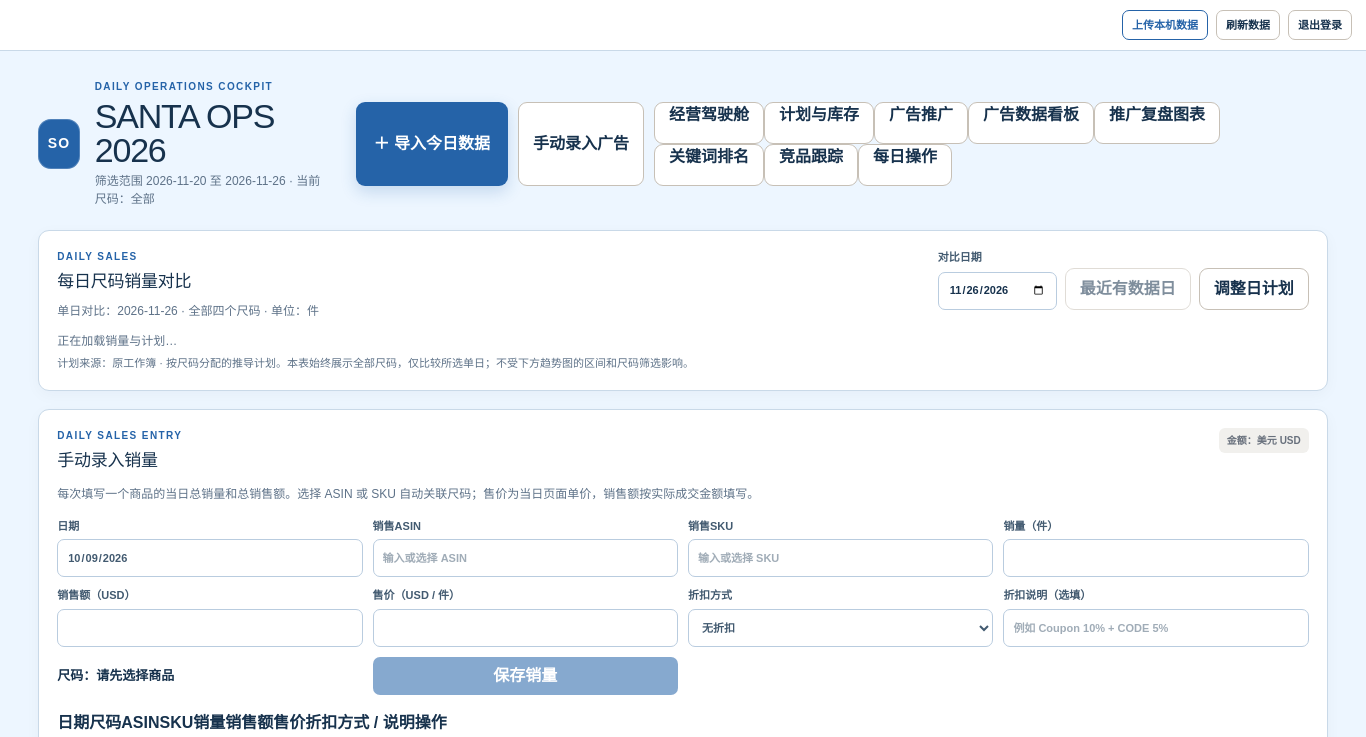
Test: keeps the dashboard as the default view and returns to its unchanged four-chart cockpit after plan navigation
Click the button "计划与库存" at (819, 122), box [764,102,874,144]
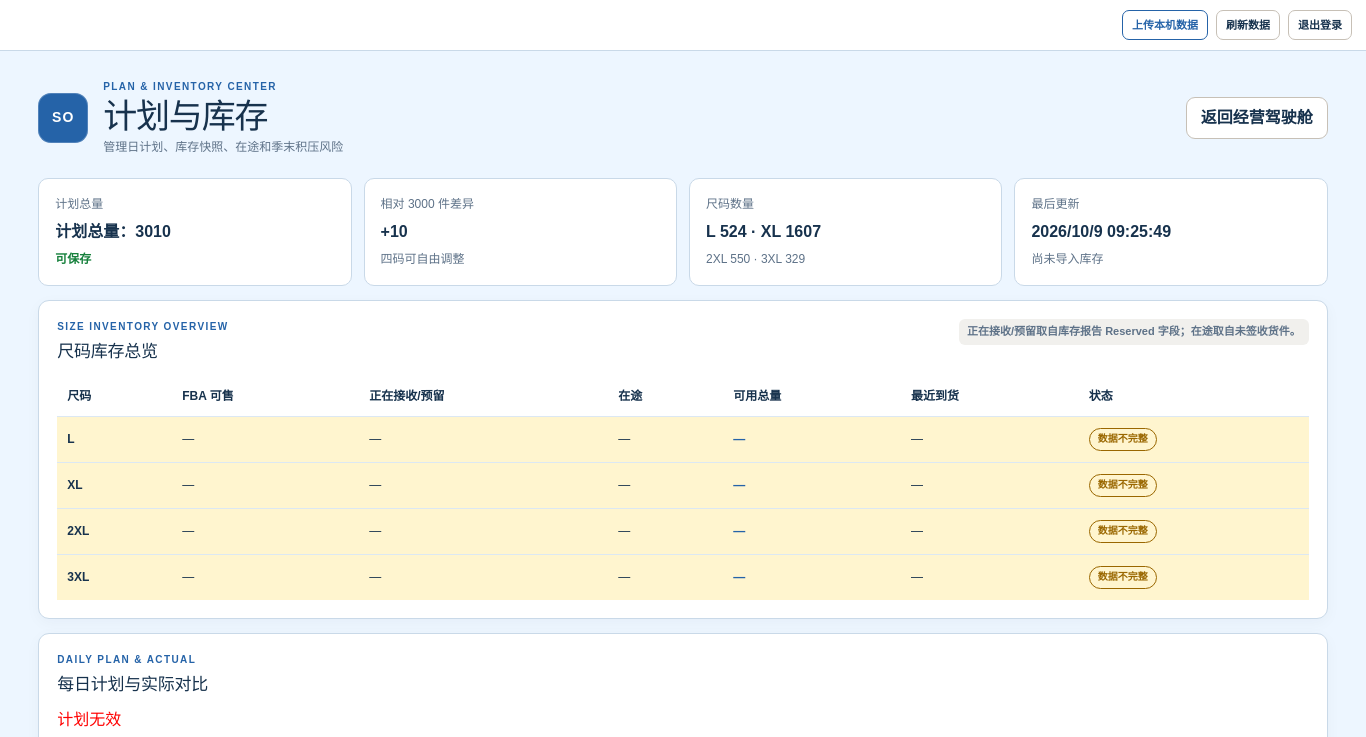
Check: the heading "计划与库存" is shown, box [103,97,267,135]
Click the button "返回经营驾驶舱" at (1257, 118), box [1186,96,1328,138]
(page scrolled)
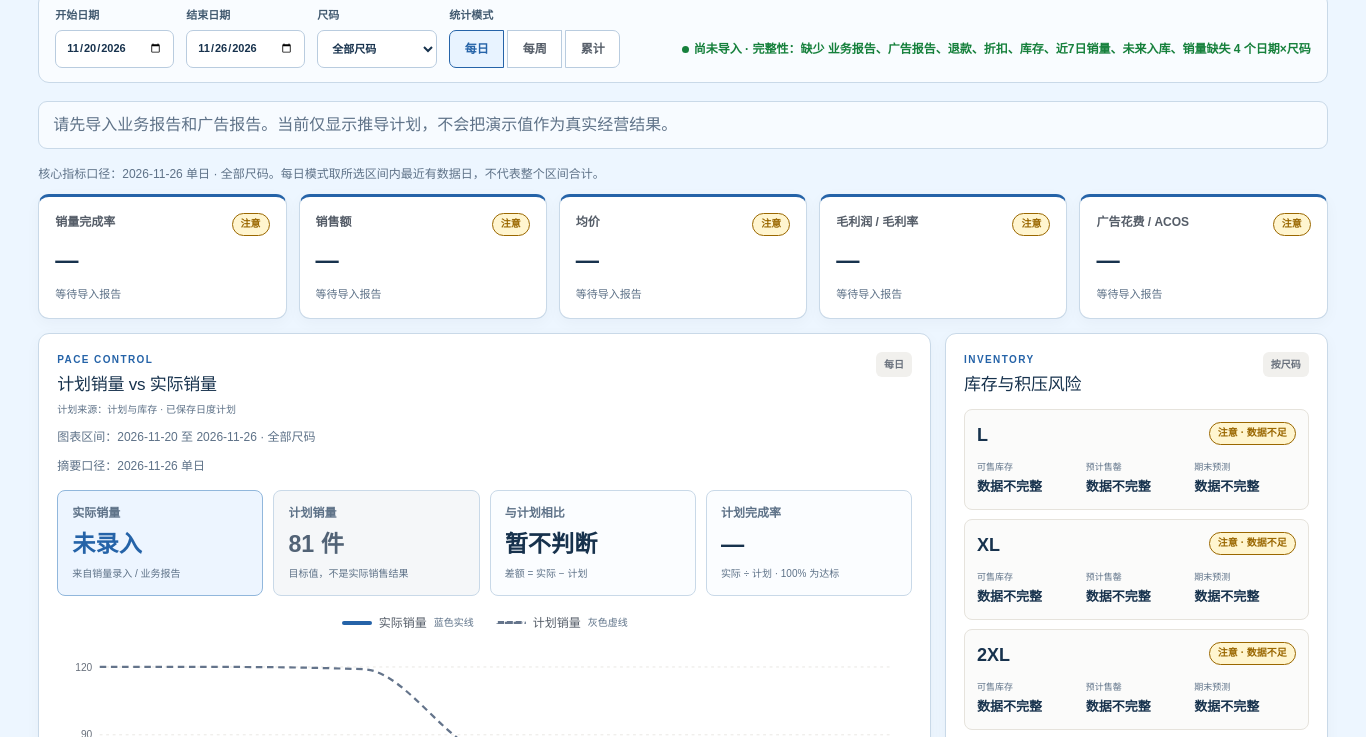
Check: the heading "计划销量 vs 实际销量" is shown, box [57,372,236,398]
